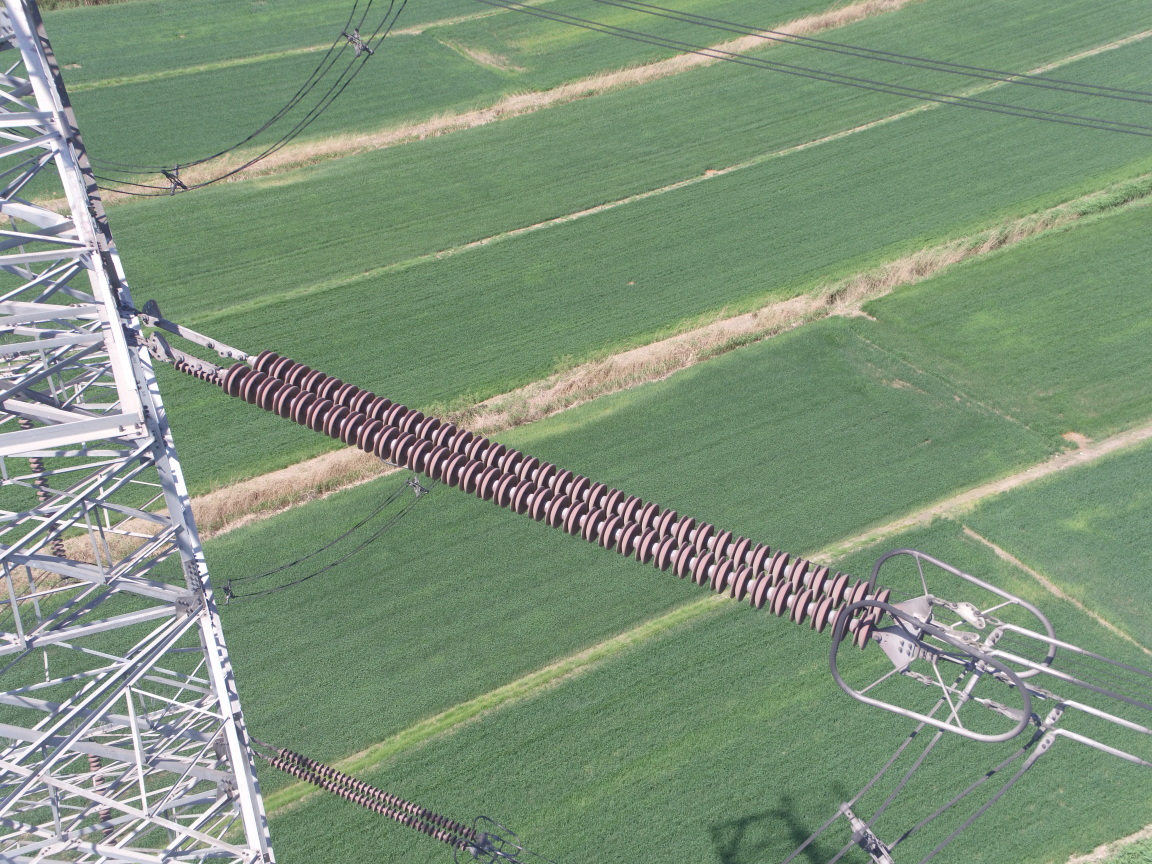insulator: (176, 341, 905, 652)
